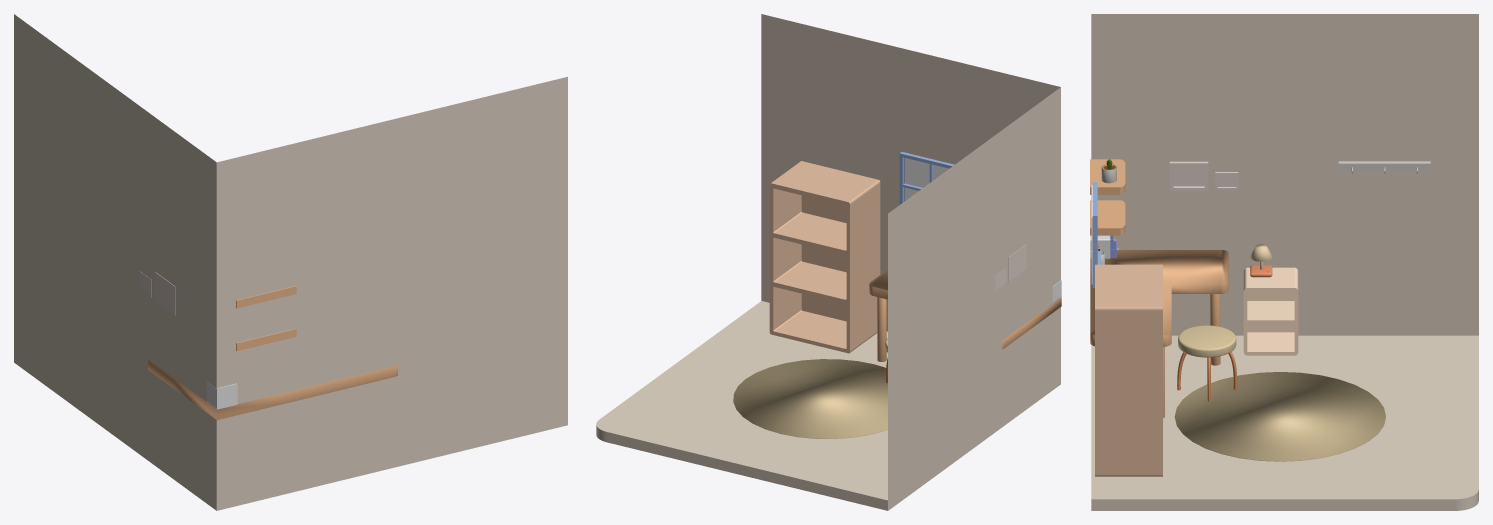
File: firstScene.glb
The picture shows the model from 3 angles, left to right: view 1: azimuth 30°, elevation 25°; view 2: azimuth 150°, elevation 25°; view 3: azimuth 270°, elevation 25°; orthographic projection. The views are drawn at different scales.
Parts seen in each view (by area): view 1: models; view 2: models; view 3: models.
Part boxes in pixels (bbox=[...]): models: bbox=[14, 14, 567, 510]; models: bbox=[596, 14, 1061, 510]; models: bbox=[1090, 14, 1478, 510].
Bounding box in the file's own units: 15.02 × 14.23 × 15.04.
